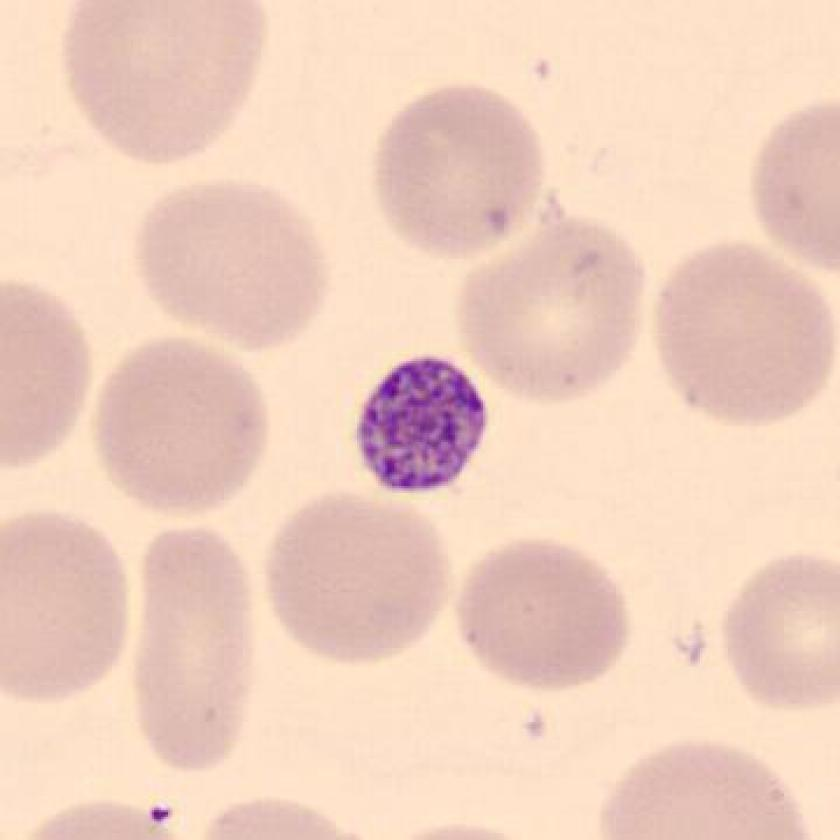platelets: (347, 346, 501, 508)
